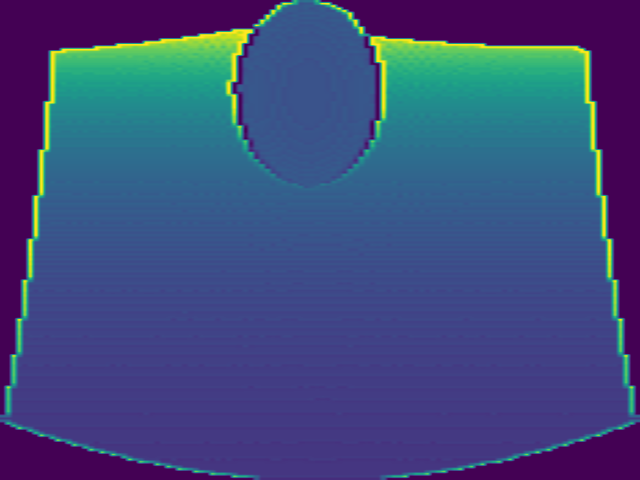sphere: (226, 1, 388, 190)
